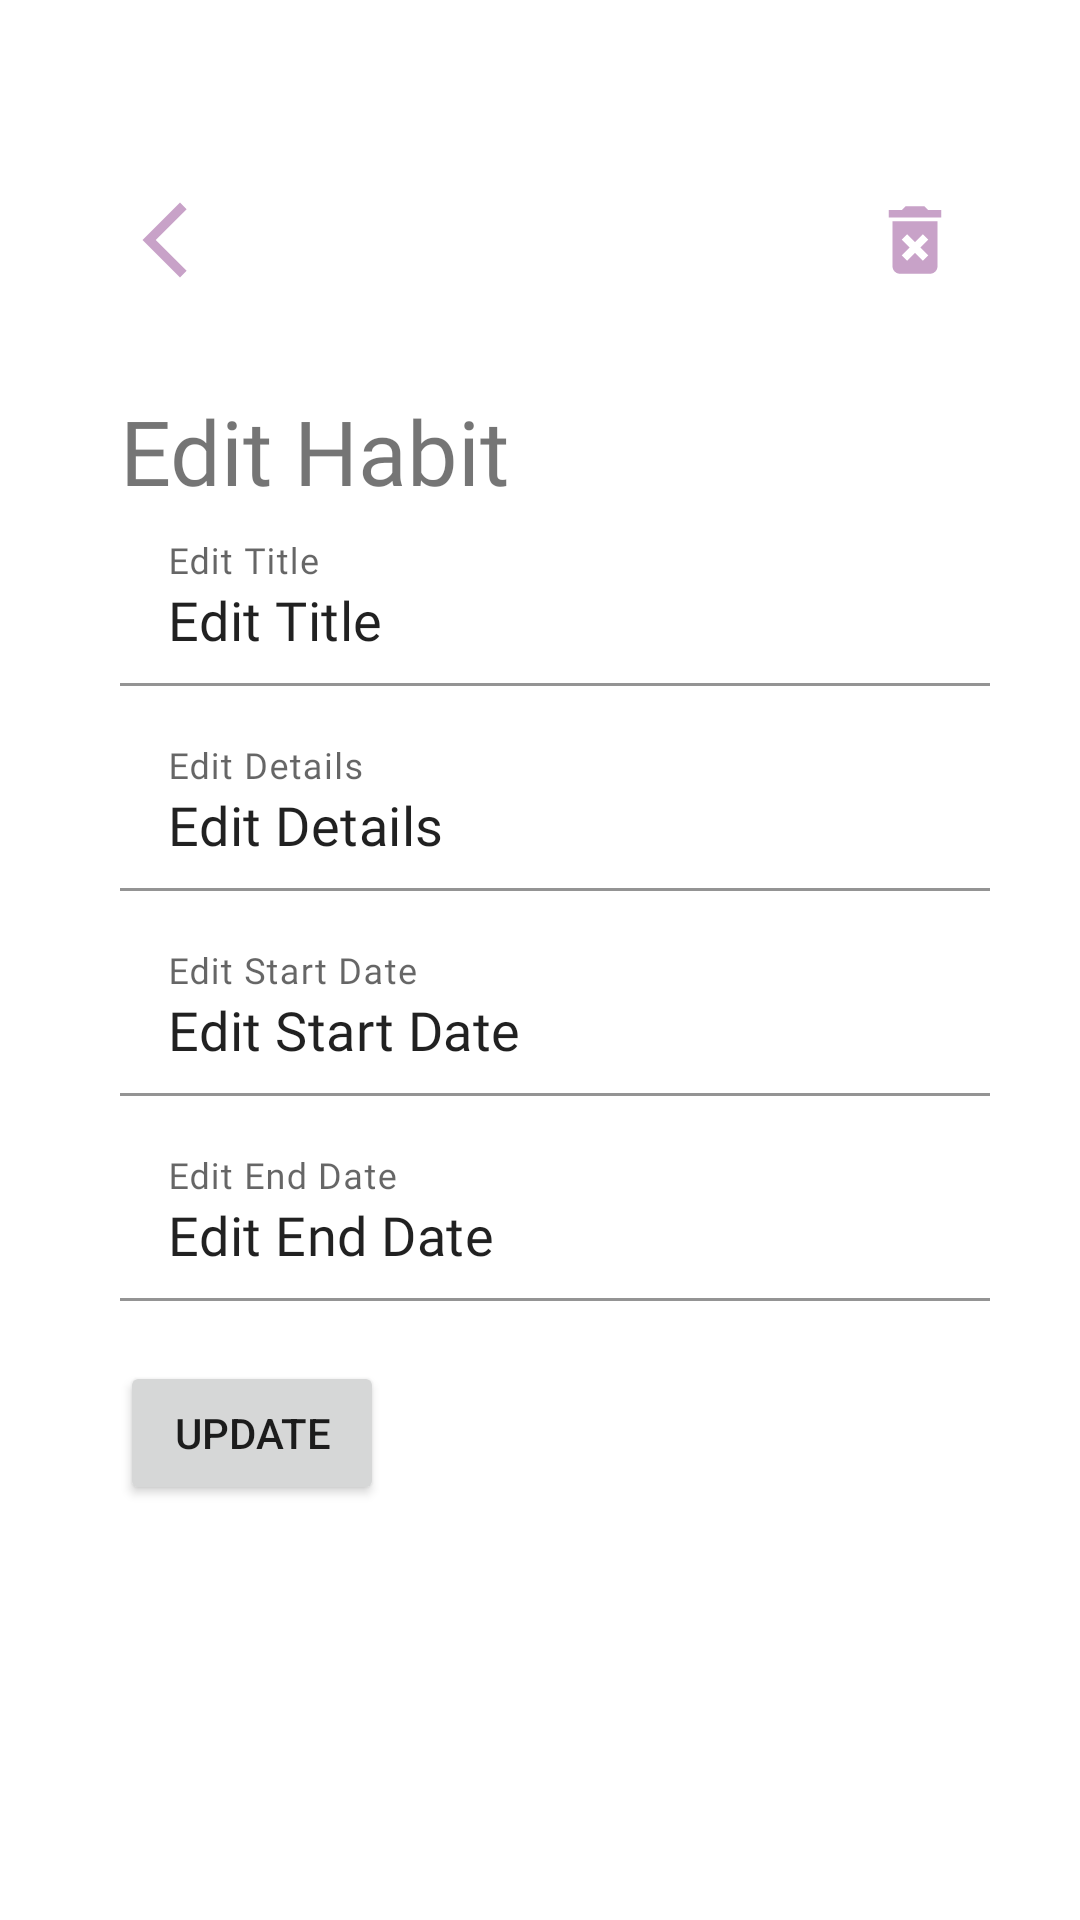

Locate icon controls on the screen. Image size 1080 x 1920, boxes as bbox=(x1, y1, x2, y2).
arrow back: bbox=(143, 203, 187, 277)
delete forever: bbox=(889, 206, 941, 274)
